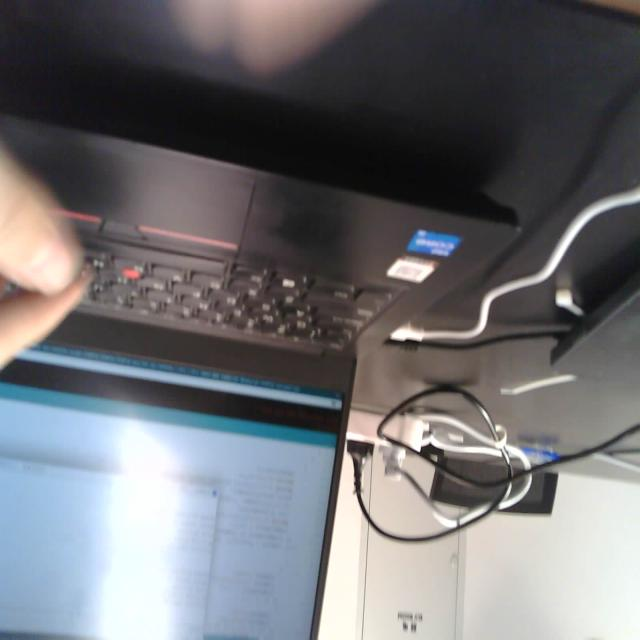keyboard-with-hands: (0, 108, 523, 352)
